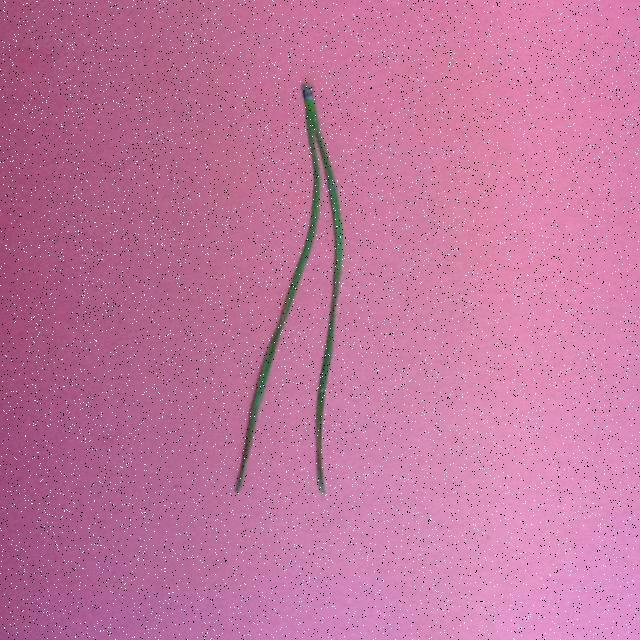foliage: (233, 87, 343, 497)
